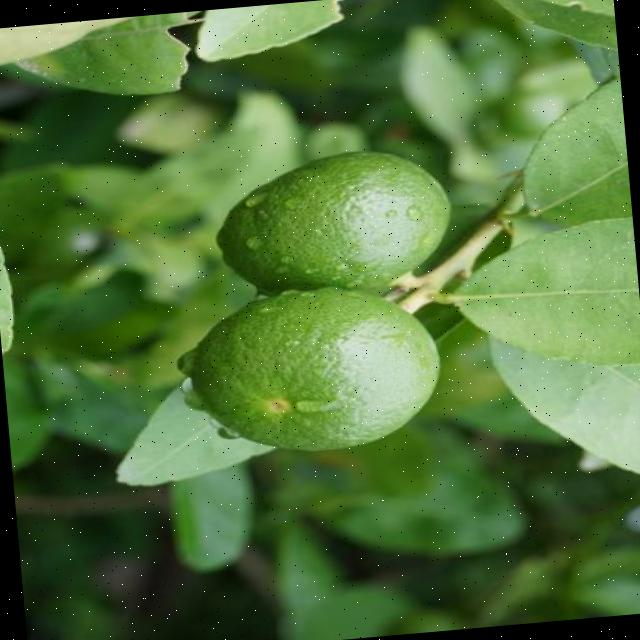Unripe: (182, 277, 450, 462), (212, 143, 458, 298)
